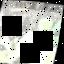Purslane: (0, 5, 63, 64)
